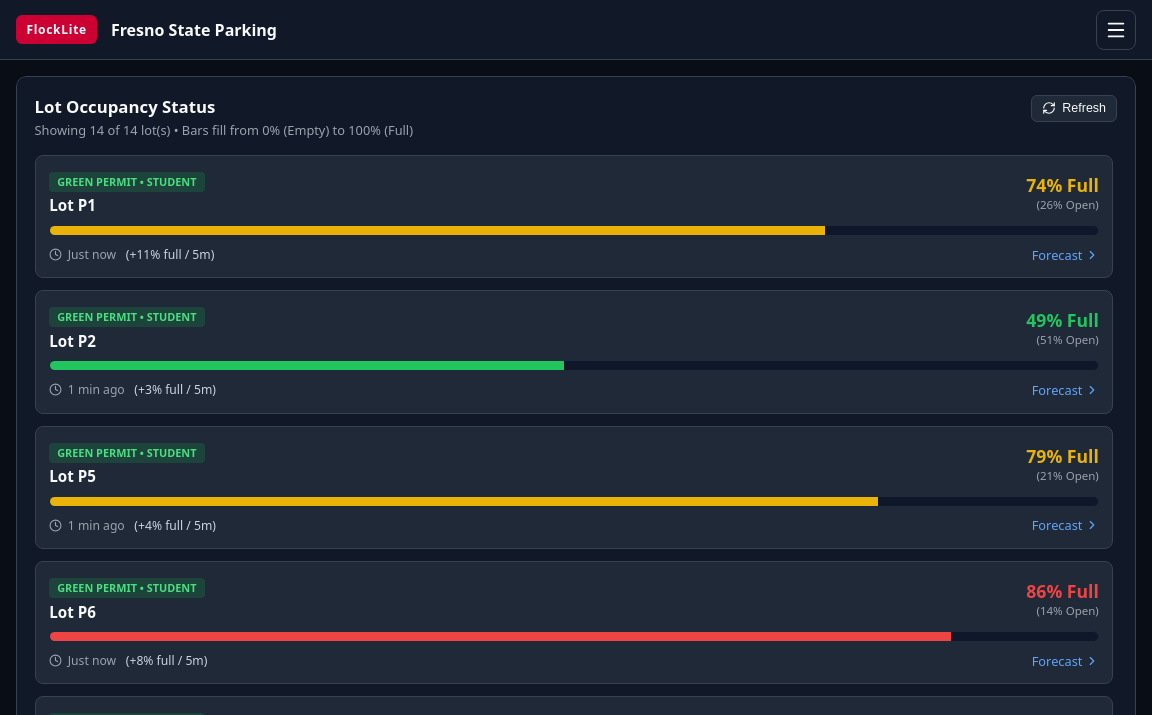
Test: App: mobile menu › opens the account modal from the menu
Click the button named "Open menu". click: (1116,30)
box: [1096,10,1136,50]
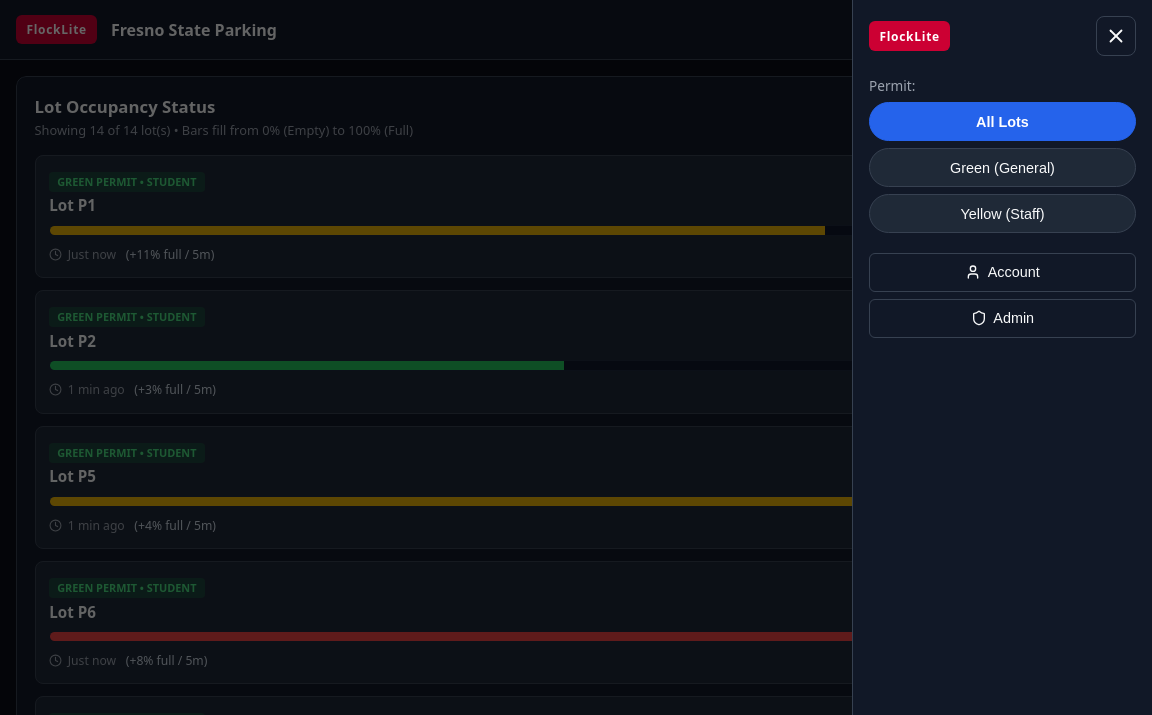
Click the button "Account". click: (1002,272)
box: [869,253,1136,292]
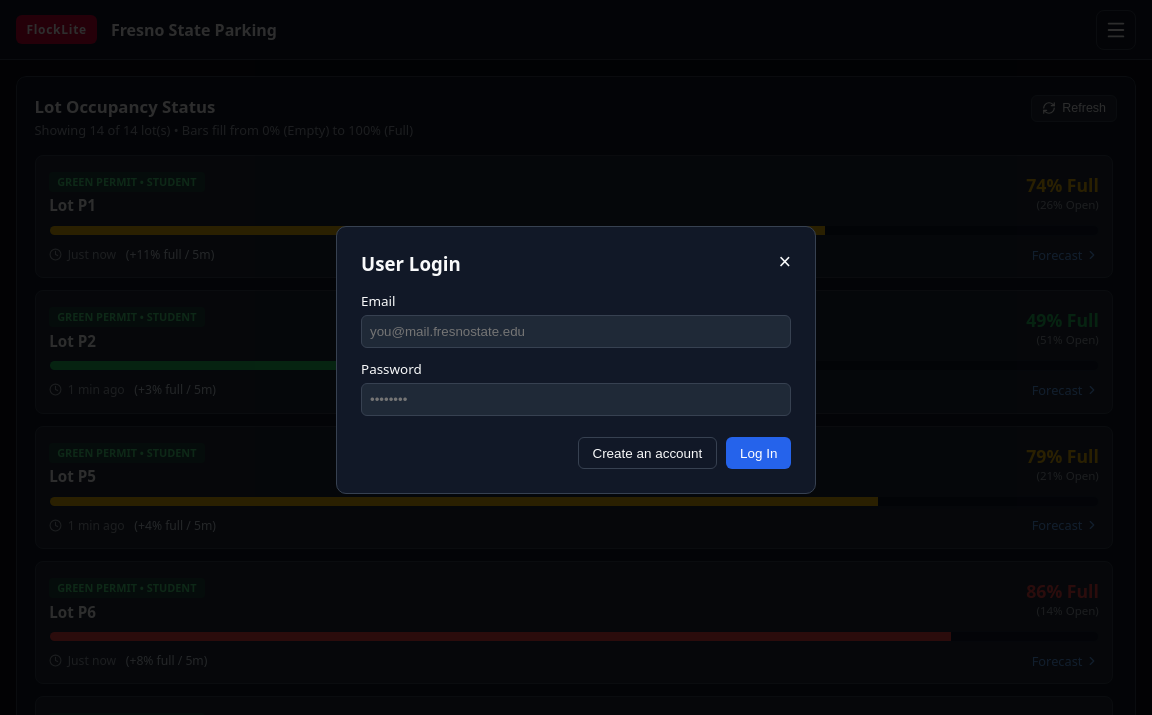
Expected: the heading "User Login" is shown, [361,251,461,276]
